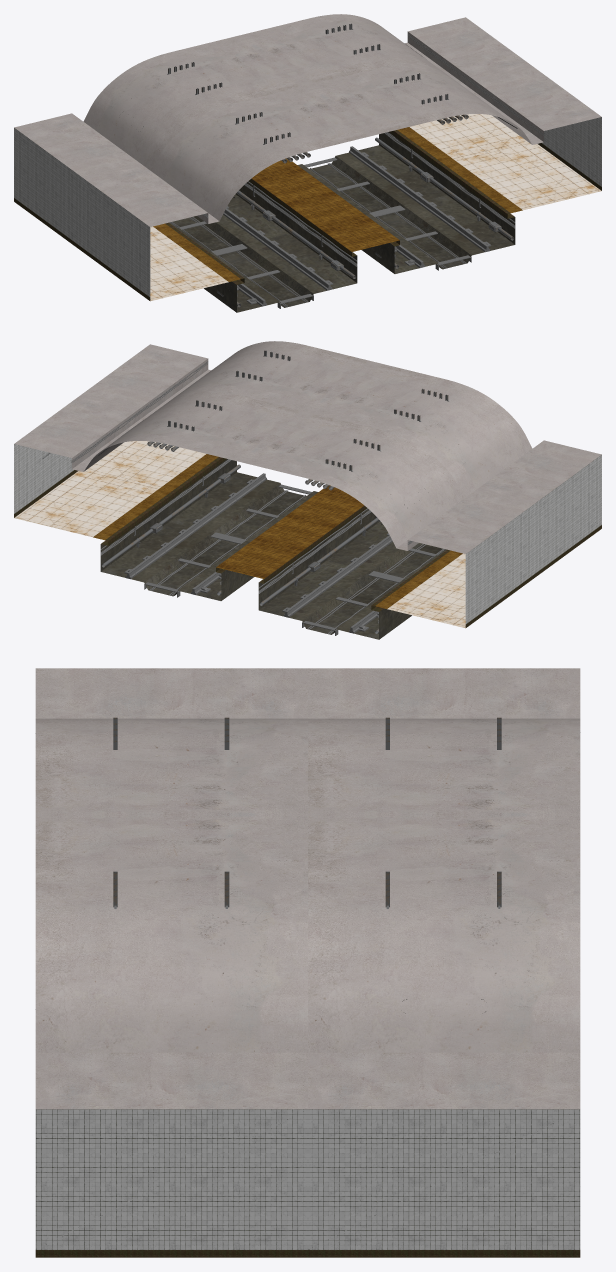
File: Ped_Tunnel_Middle_03_01.fbx
The picture shows the model from 3 angles, top to bottom: view 1: azimuth 30°, elevation 25°; view 2: azimuth 150°, elevation 25°; view 3: azimuth 270°, elevation 25°; orthographic projection. The views are drawn at different scales.
Visible parts, largest first — view 1: Ped_Tunnel_Middle_03_01; view 2: Ped_Tunnel_Middle_03_01; view 3: Ped_Tunnel_Middle_03_01.
Part boxes in pixels (x1,y1,x2,y2): Ped_Tunnel_Middle_03_01: [14, 14, 601, 312]; Ped_Tunnel_Middle_03_01: [14, 341, 601, 639]; Ped_Tunnel_Middle_03_01: [35, 668, 580, 1257].
Bounding box in the file's own units: 1916 × 627 × 1001.
